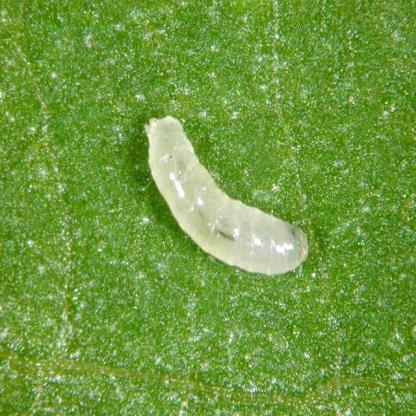whorl-maggot: (142, 112, 312, 278)
